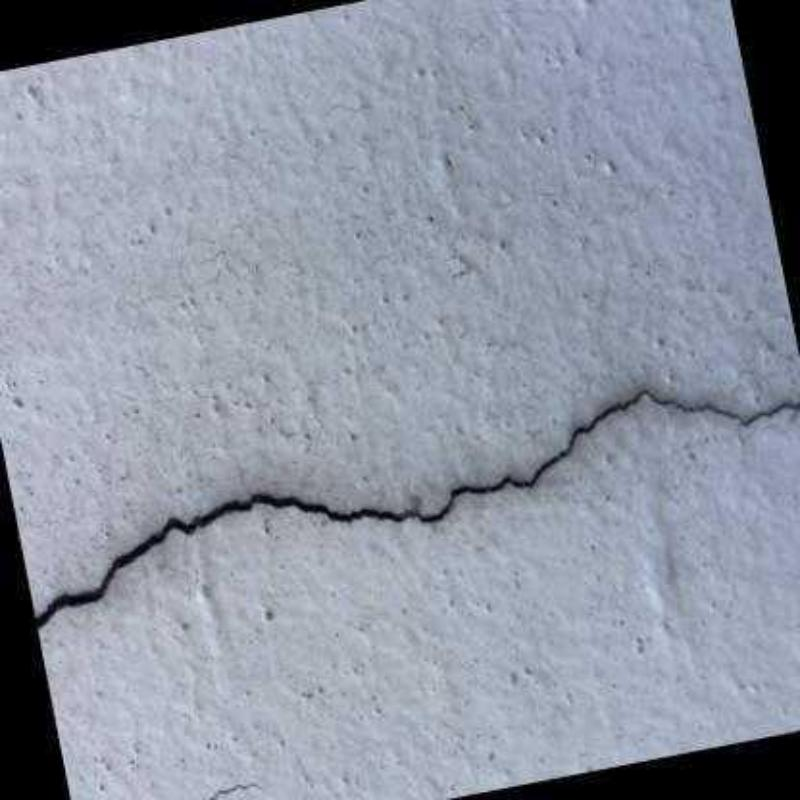pothole: (35, 391, 799, 630), (208, 781, 259, 798)
